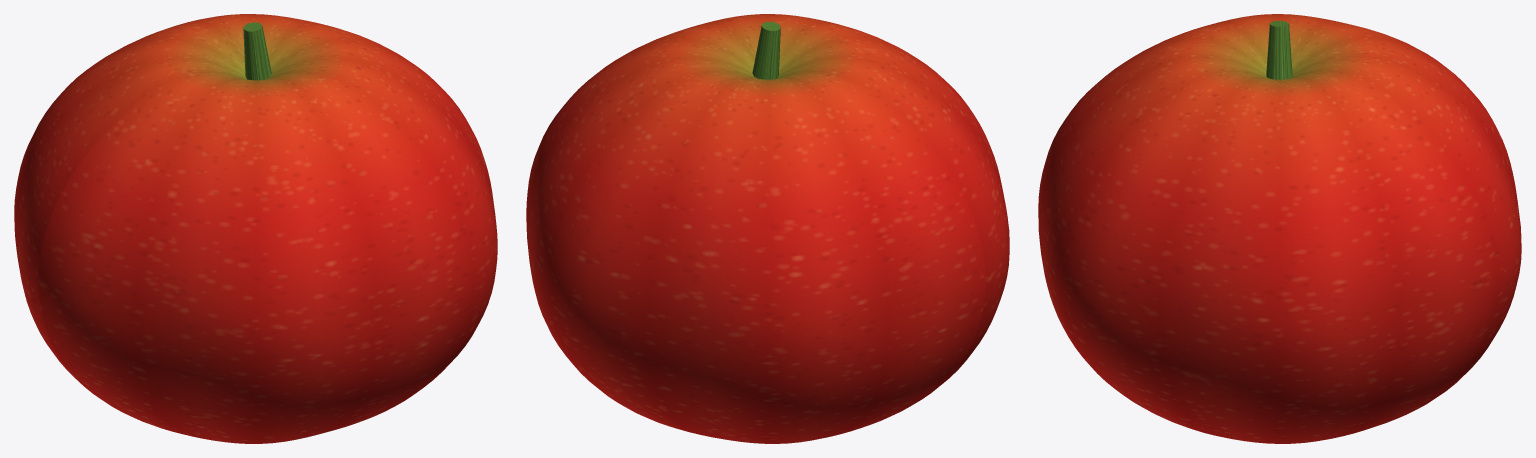
The model's file is Tomato.glb.
3 renders of one model, left to right at view 1: azimuth 30°, elevation 25°; view 2: azimuth 150°, elevation 25°; view 3: azimuth 270°, elevation 25°, orthographic.
Visible parts, largest first — view 1: Tomato_Body, Tomato_Stalk; view 2: Tomato_Body, Tomato_Stalk; view 3: Tomato_Body, Tomato_Stalk.
Part boxes in pixels (x1=…): Tomato_Body: x1=14, y1=14, x2=497, y2=443; Tomato_Stalk: x1=243, y1=22, x2=271, y2=80; Tomato_Body: x1=526, y1=14, x2=1009, y2=443; Tomato_Stalk: x1=752, y1=22, x2=780, y2=79; Tomato_Body: x1=1038, y1=14, x2=1521, y2=443; Tomato_Stalk: x1=1266, y1=21, x2=1292, y2=79.
Bounding box in the file's own units: 0.9437 × 0.7975 × 0.9025.
Materials: 2 (2 with a texture image).
